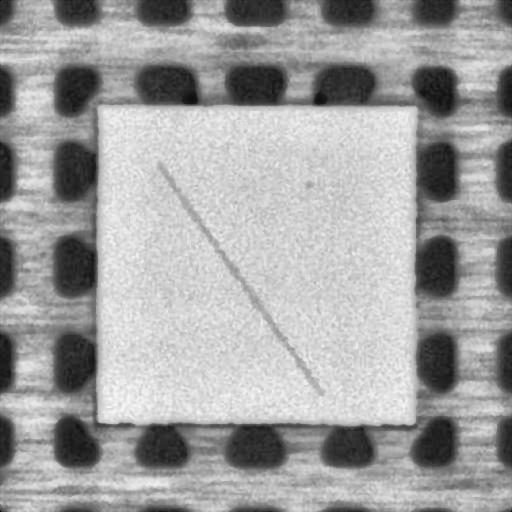DIE_CRACK: (157, 164, 321, 393)
